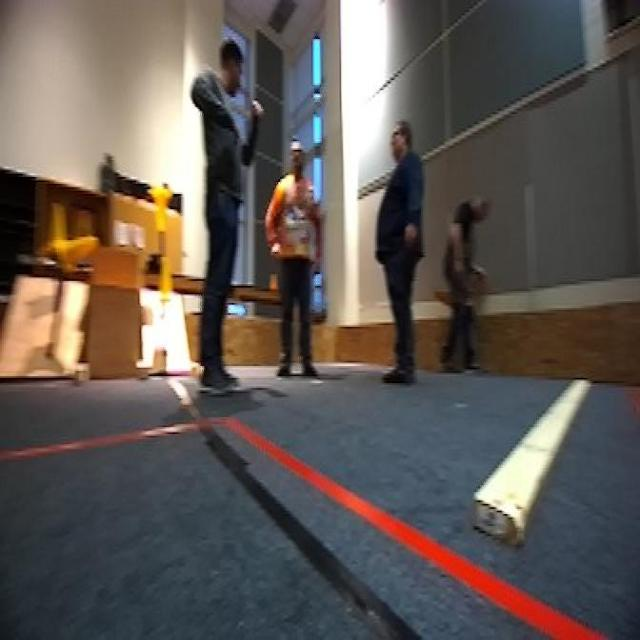frc_cone: (54, 230, 96, 277), (150, 184, 173, 231), (49, 199, 66, 255), (156, 255, 174, 305)
